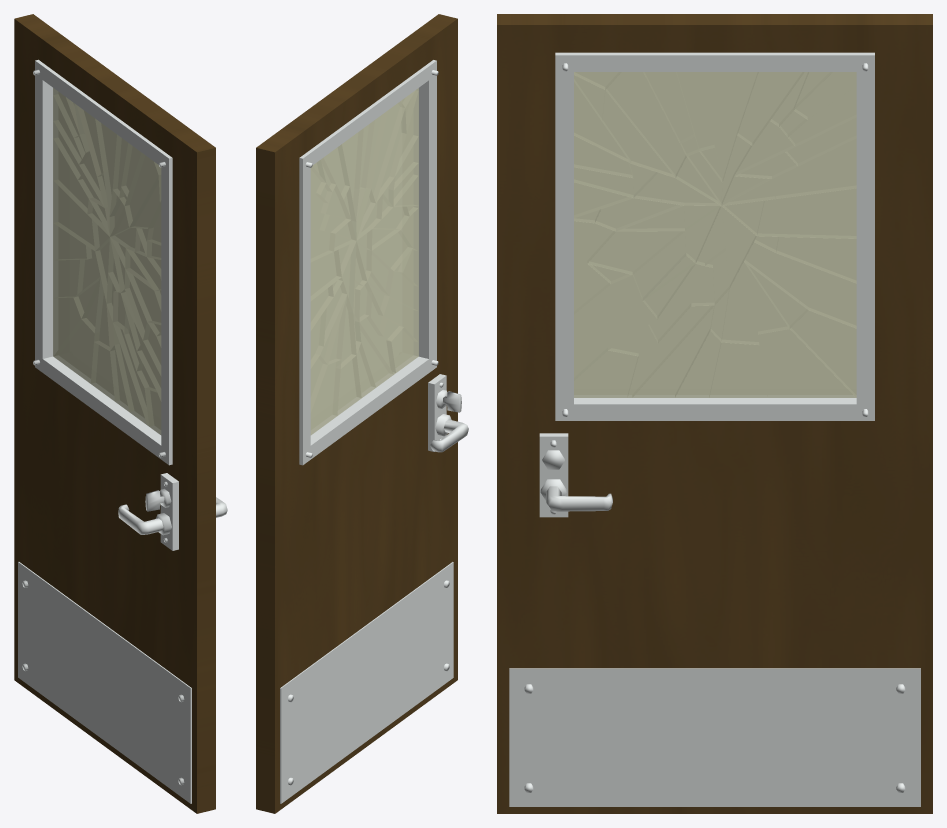
Rendered from Door.fbx.
The picture shows the model from 3 angles, left to right: view 1: azimuth 30°, elevation 25°; view 2: azimuth 150°, elevation 25°; view 3: azimuth 270°, elevation 25°; orthographic projection. The views are drawn at different scales.
Visible parts, largest first — view 1: Doorwood, Window Unbroken, DoorFootPlate, DoorWindowFrame, Glass Shard.040, Glass Shard.032, Glass Shard.017, Glass Shard.031, Glass Shard.037, Glass Shard.023, Doorkhandle Base, Glass Shard.034 (+24 smaller); view 2: Doorwood, Window Unbroken, DoorFootPlate, DoorWindowFrame, Glass Shard.040, Glass Shard.017, Glass Shard.032, Glass Shard.023, Glass Shard.042, Doorkhandle Base, Glass Shard.059, Glass Shard.005 (+24 smaller); view 3: Doorwood, Window Unbroken, DoorFootPlate, DoorWindowFrame, Glass Shard.032, Glass Shard.040, Glass Shard.017, Glass Shard.023, Glass Shard.031, Glass Shard.037, Glass Shard.034, Glass Shard.042 (+41 smaller).
Part boxes in pixels (x1,y1,x2,y2): Doorwood: [14, 14, 215, 813]; Window Unbroken: [53, 88, 161, 434]; DoorFootPlate: [18, 562, 191, 803]; DoorWindowFrame: [35, 59, 172, 465]; Glass Shard.040: [54, 319, 94, 382]; Glass Shard.032: [53, 181, 94, 250]; Glass Shard.017: [125, 153, 158, 226]; Glass Shard.031: [53, 140, 88, 213]; Glass Shard.037: [53, 297, 80, 355]; Glass Shard.023: [95, 119, 116, 214]; Doorkhandle Base: [160, 473, 178, 550]; Glass Shard.034: [53, 260, 79, 297]; Doorwood: [256, 14, 457, 813]; Window Unbroken: [310, 88, 418, 434]; DoorFootPlate: [280, 562, 453, 803]; DoorWindowFrame: [299, 60, 436, 465]; Glass Shard.040: [311, 360, 340, 434]; Glass Shard.017: [371, 101, 404, 202]; Glass Shard.032: [311, 250, 341, 300]; Glass Shard.023: [342, 129, 363, 218]; Glass Shard.042: [338, 356, 361, 414]; Doorkhandle Base: [428, 374, 446, 451]; Glass Shard.059: [372, 230, 412, 270]; Glass Shard.005: [384, 297, 418, 341]; Doorwood: [497, 14, 932, 813]; Window Unbroken: [574, 72, 856, 397]; DoorFootPlate: [509, 668, 920, 806]; DoorWindowFrame: [555, 52, 874, 420]; Glass Shard.032: [757, 188, 856, 238]; Glass Shard.040: [758, 329, 855, 397]; Glass Shard.017: [605, 72, 686, 177]; Glass Shard.023: [703, 72, 758, 182]; Glass Shard.031: [772, 138, 856, 198]; Glass Shard.037: [790, 310, 856, 397]; Glass Shard.034: [792, 259, 856, 328]; Glass Shard.042: [709, 342, 767, 397].
Size of the model in its own units: 0.7085 by 5.27 by 2.64.
Materials: 3 (1 with a texture image).
